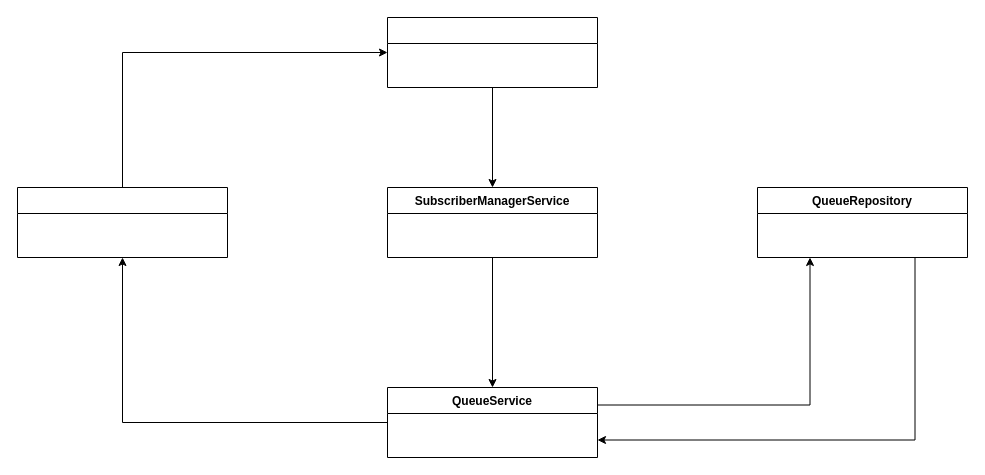
The diagram is 985 pixels wide and 475 high, and some of its shapes have lost their labels. Each missing label, with the centre of its shape:
EventRepository: [492,52]
TextMessageRepository: [122,222]
